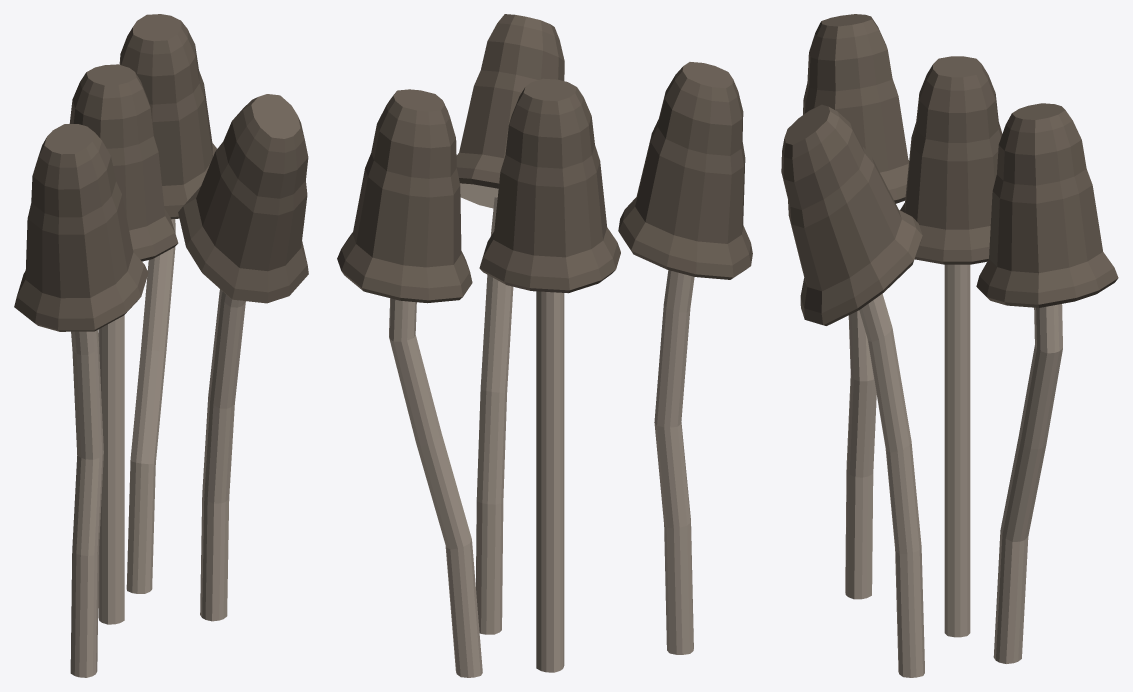
The model's file is Mushroom4.2.fbx.
3 views of the same model, side by side, from view 1: azimuth 30°, elevation 25°; view 2: azimuth 150°, elevation 25°; view 3: azimuth 270°, elevation 25° (orthographic). The views are drawn at different scales.
Visible parts, largest first — view 1: Mushroom4.2; view 2: Mushroom4.2; view 3: Mushroom4.2.
Part boxes in pixels (box(x1,y1,x2,y2)): Mushroom4.2: box(14, 14, 308, 677); Mushroom4.2: box(337, 14, 752, 677); Mushroom4.2: box(781, 14, 1118, 677).
Size of the model in its own units: 125 by 228 by 122.
